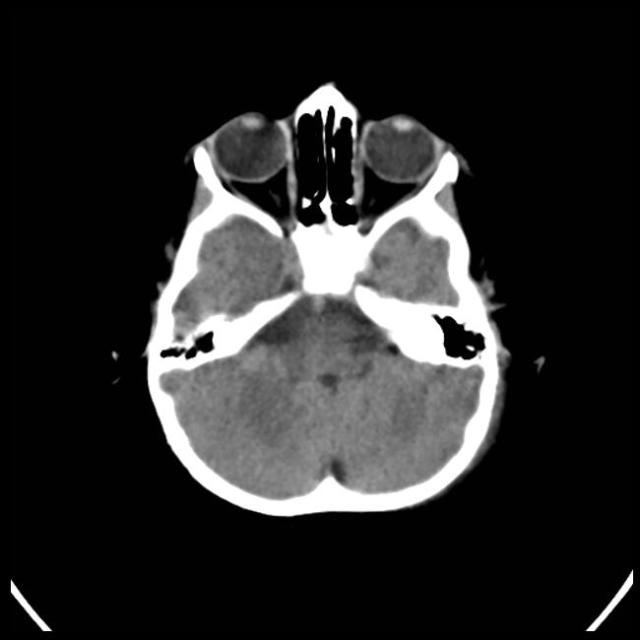lesion: (138, 78, 516, 520)
